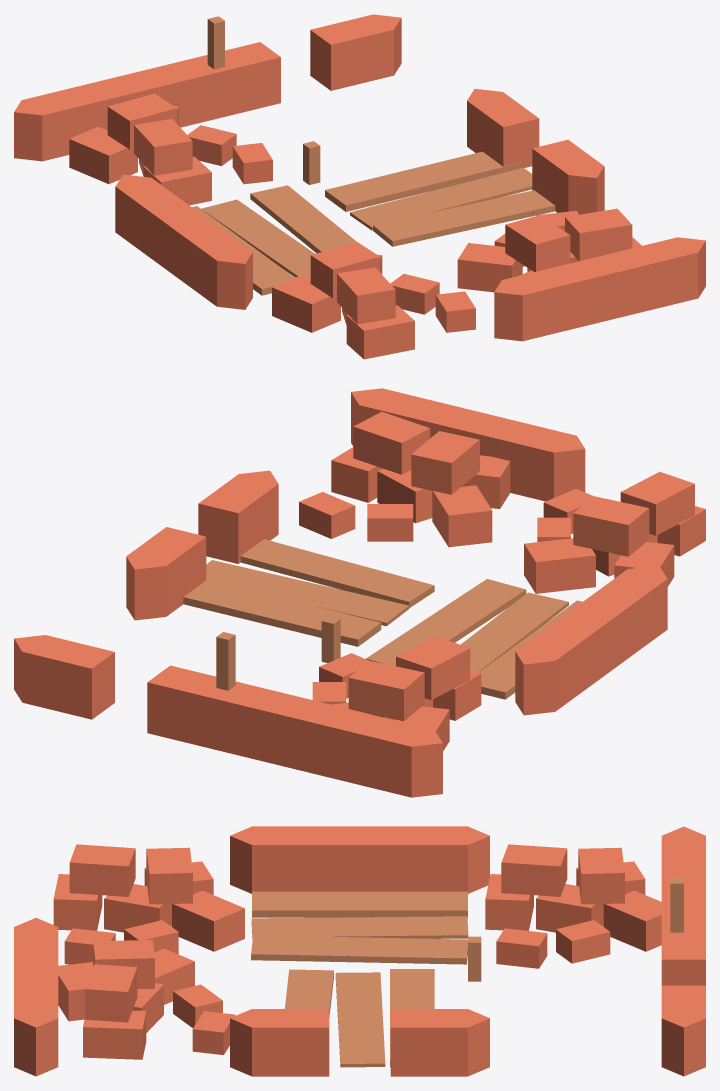
The model's file is Casa7Rota.FBX.
The picture shows the model from 3 angles, top to bottom: view 1: azimuth 30°, elevation 25°; view 2: azimuth 150°, elevation 25°; view 3: azimuth 270°, elevation 25°; orthographic projection. The views are drawn at different scales.
Visible parts, largest first — view 1: wall_border_142; view 2: wall_border_142; view 3: wall_border_142.
Part boxes in pixels (x1,y1,x2,y2): wall_border_142: [14, 14, 705, 359]; wall_border_142: [14, 388, 705, 797]; wall_border_142: [14, 826, 705, 1076].
Bounding box in the file's own units: 2205 × 500 × 3205.
